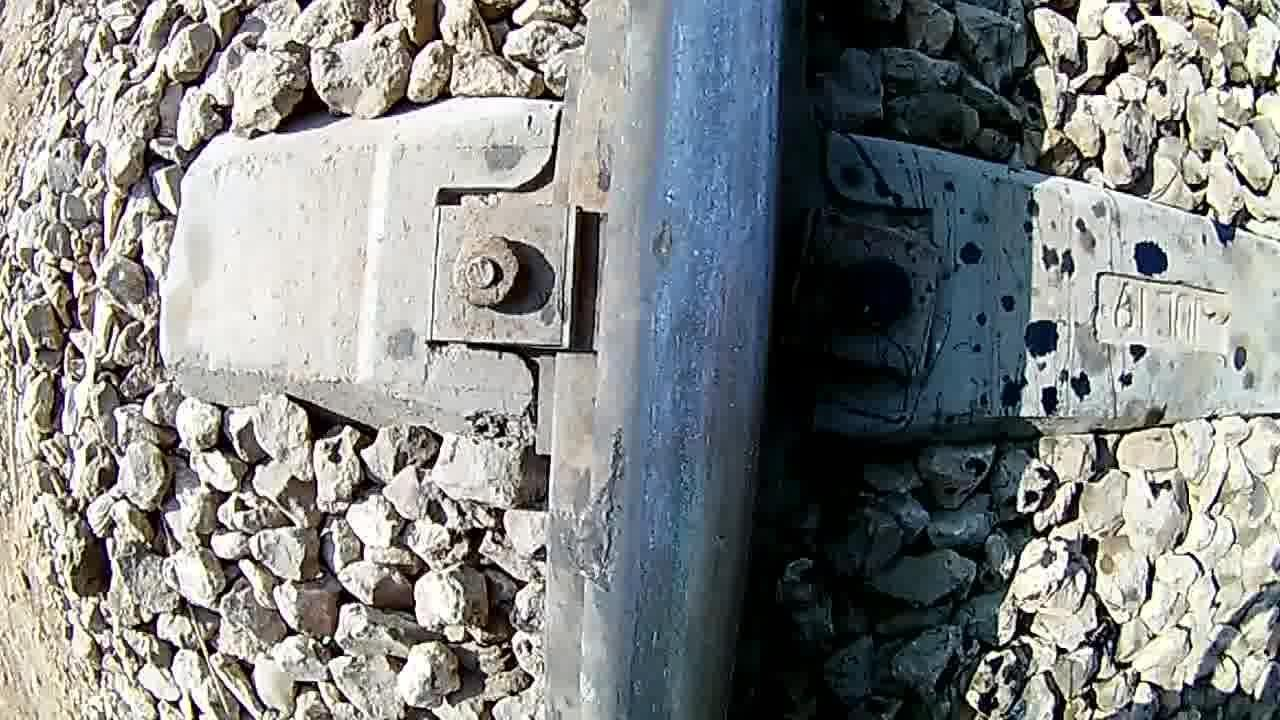crack: (626, 0, 792, 720)
